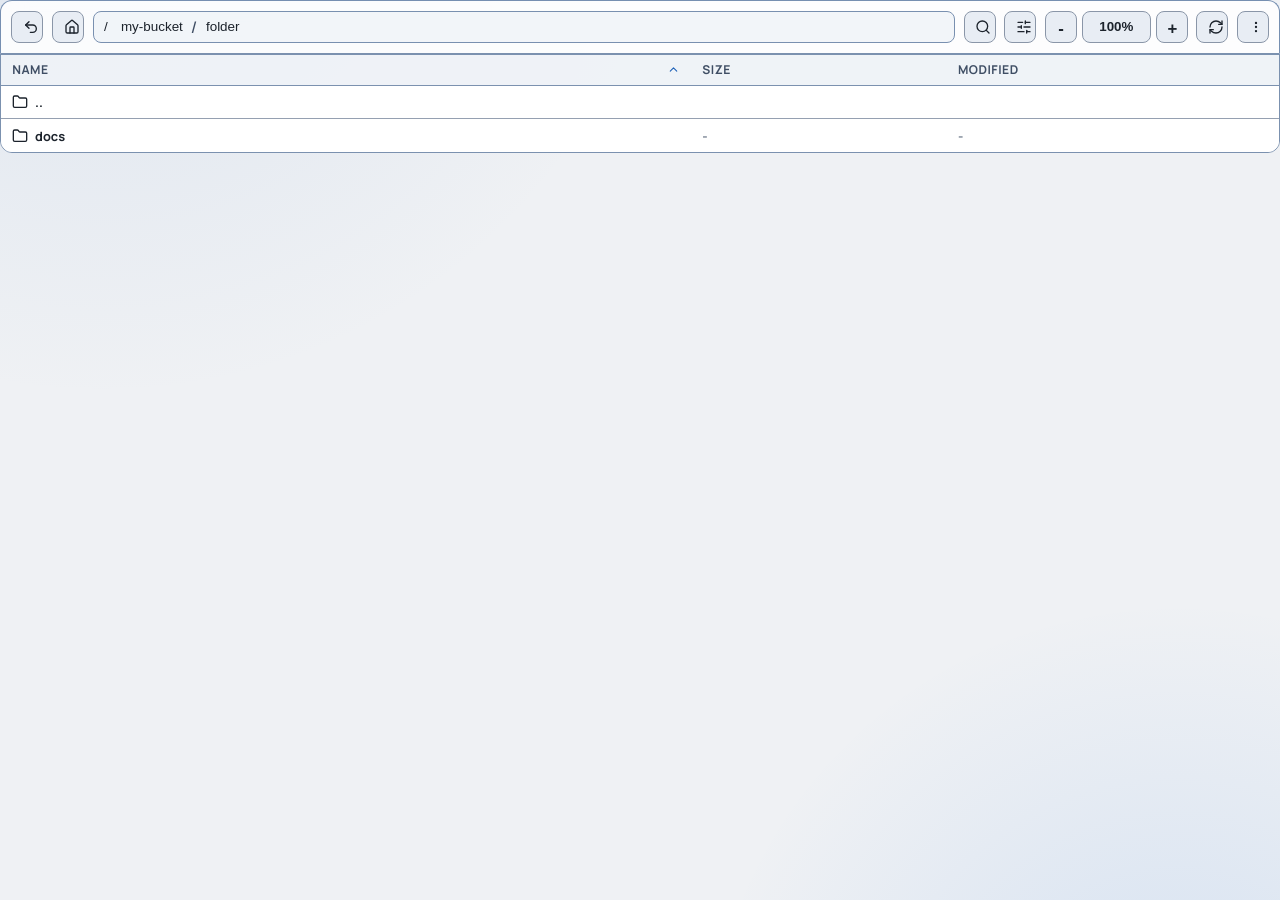
BrowserPage breadcrumb editing › shows breadcrumb auto-complete hints while typing
Click the element with test id "breadcrumb-trail" at (524, 27), box [92,11,955,43]
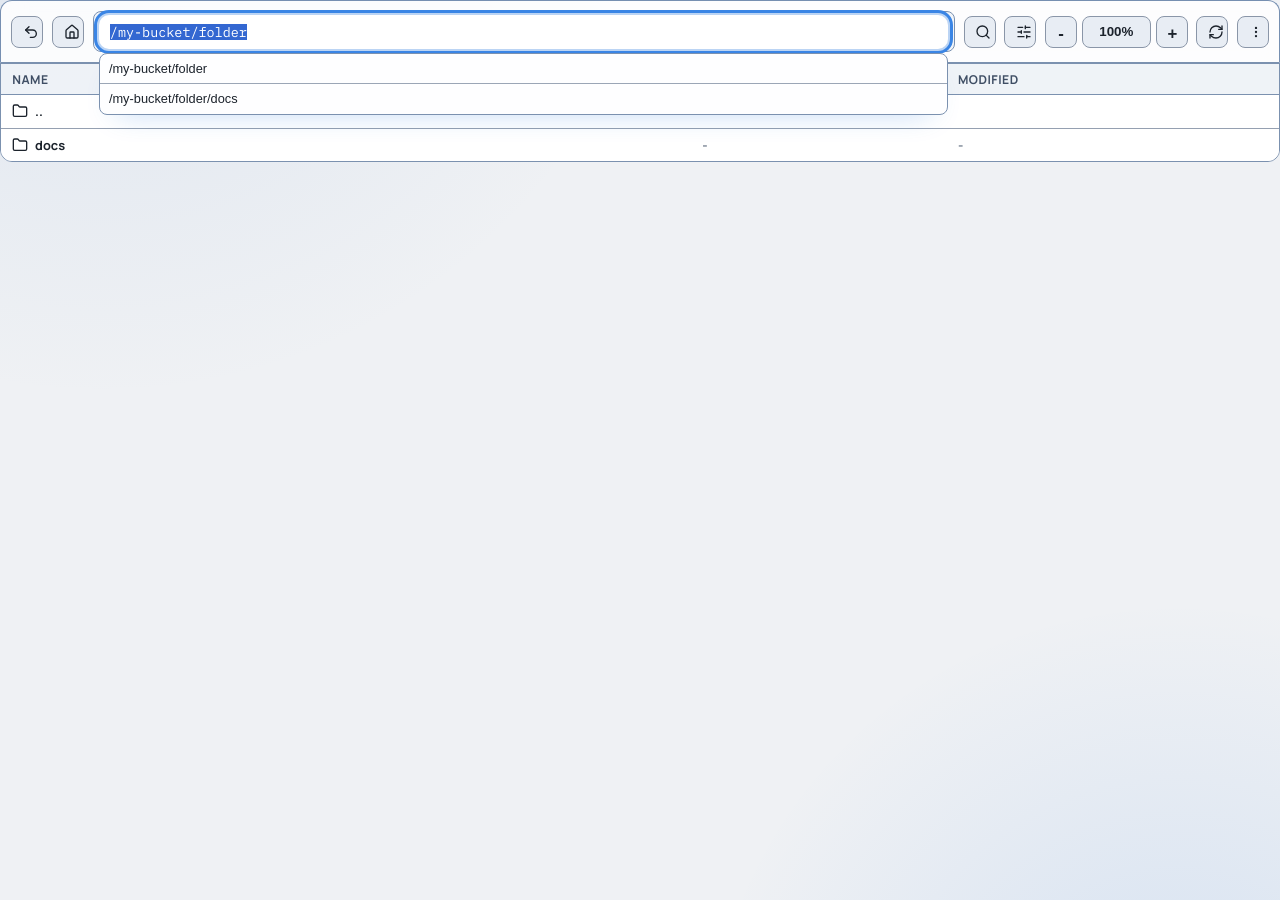
Replace the text in the field named "Breadcrumb path" with "/my-bucket/folder/d" at (524, 32), box [99,15,948,48]
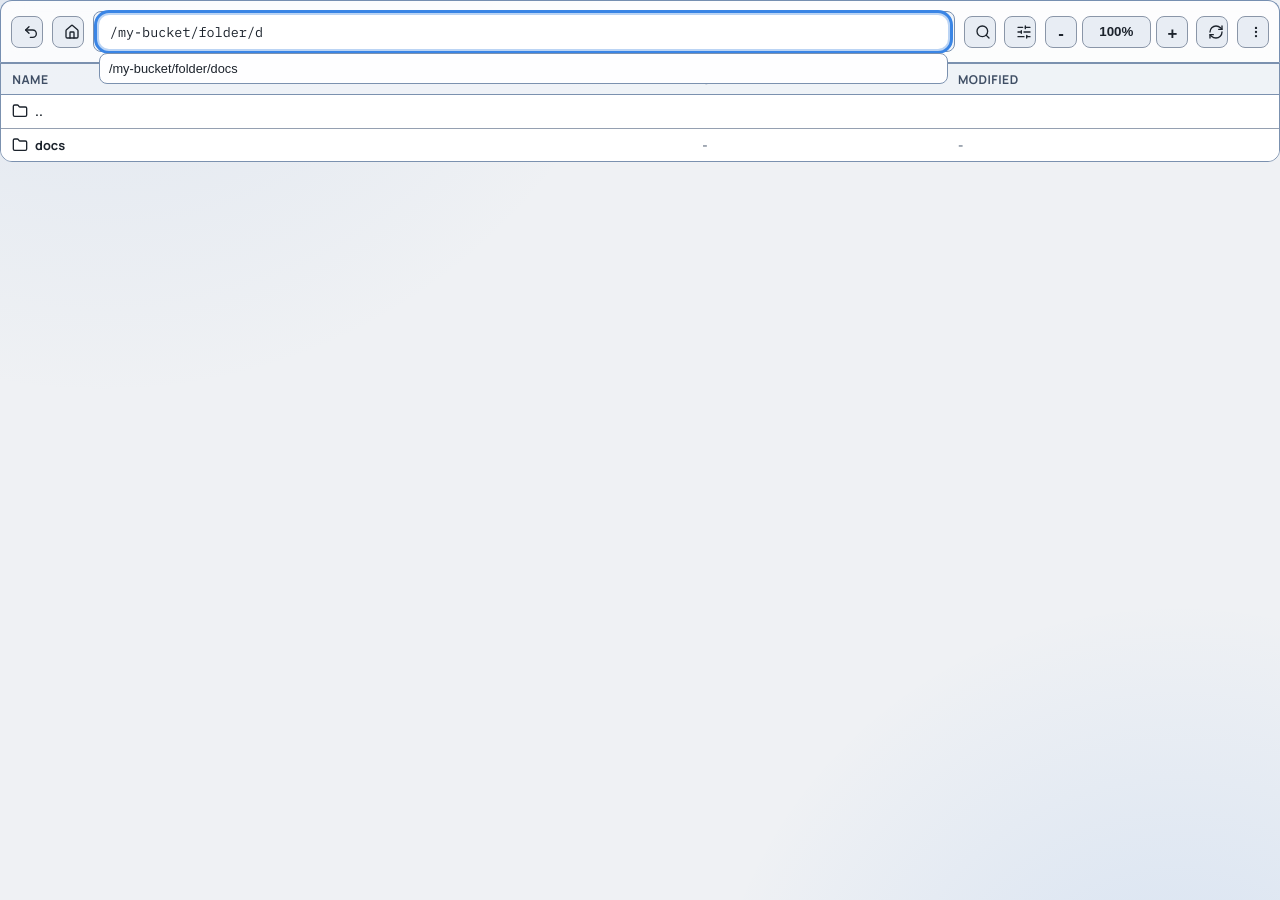
Result: the list with test id "breadcrumb-hints" reads "/my-bucket/folder/docs" at [100,54,947,83]
